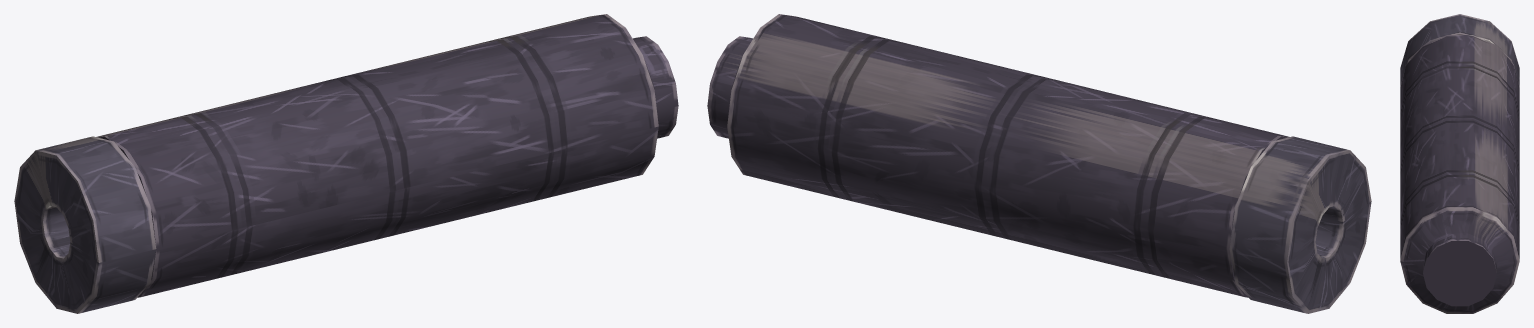
File: att_suppressor_body.fbx
3 renders of one model, left to right at view 1: azimuth 30°, elevation 25°; view 2: azimuth 150°, elevation 25°; view 3: azimuth 270°, elevation 25°, orthographic. The views are drawn at different scales.
Visible parts, largest first — view 1: att_suppressor_body; view 2: att_suppressor_body; view 3: att_suppressor_body.
Boxes of the visible parts, bbox=[...] form: att_suppressor_body: bbox=[14, 14, 678, 313]; att_suppressor_body: bbox=[707, 14, 1371, 313]; att_suppressor_body: bbox=[1400, 14, 1519, 313].
Bounding box in the file's own units: 0.6225 × 0.153 × 0.153.
